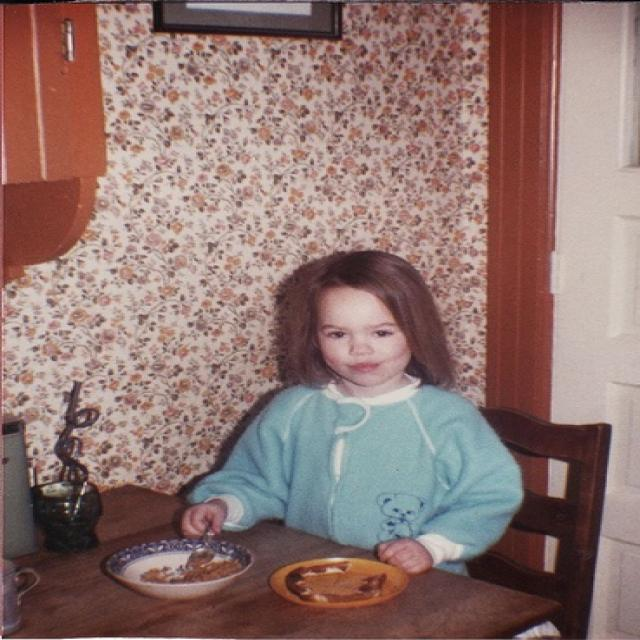chair: (465, 406, 612, 638)
diningtable: (0, 482, 565, 638)
